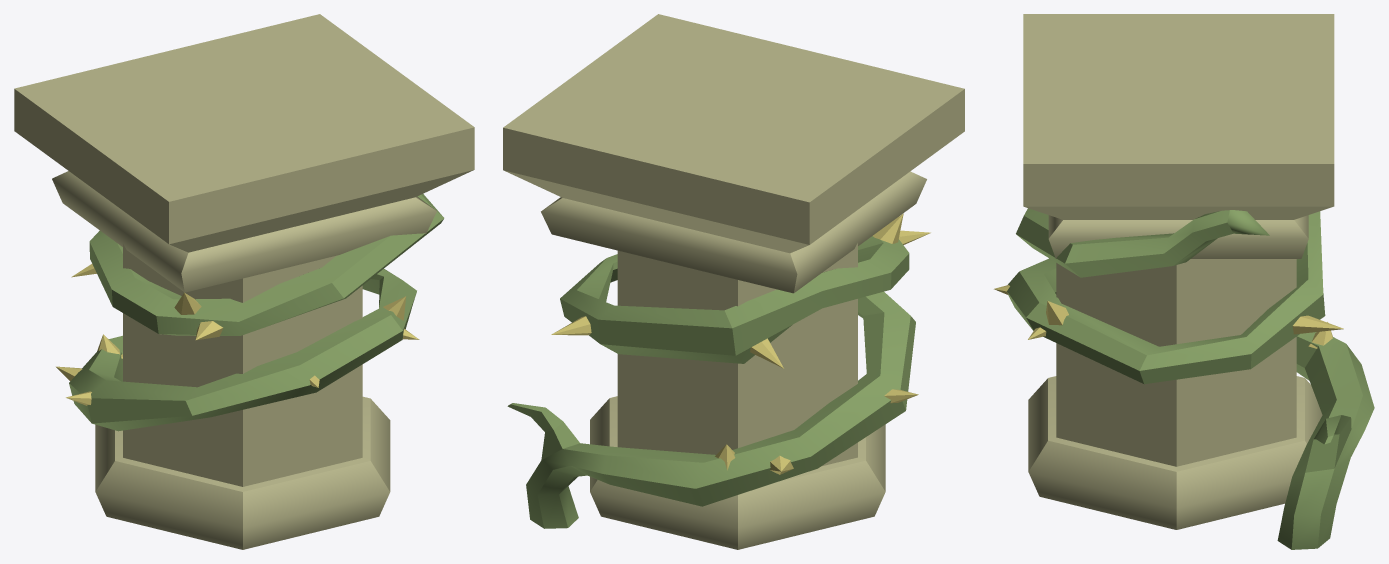
The model's file is 01_BG_Receptacle_V001.fbx.
The picture shows the model from 3 angles, left to right: view 1: azimuth 30°, elevation 25°; view 2: azimuth 150°, elevation 25°; view 3: azimuth 270°, elevation 25°; orthographic projection.
Parts seen in each view (by area): view 1: Receptacle; view 2: Receptacle; view 3: Receptacle.
Boxes of the visible parts, bbox=[...] form: Receptacle: bbox=[14, 14, 474, 549]; Receptacle: bbox=[503, 14, 964, 549]; Receptacle: bbox=[994, 14, 1374, 549].
Bounding box in the file's own units: 0.9471 × 1.01 × 0.8881.
